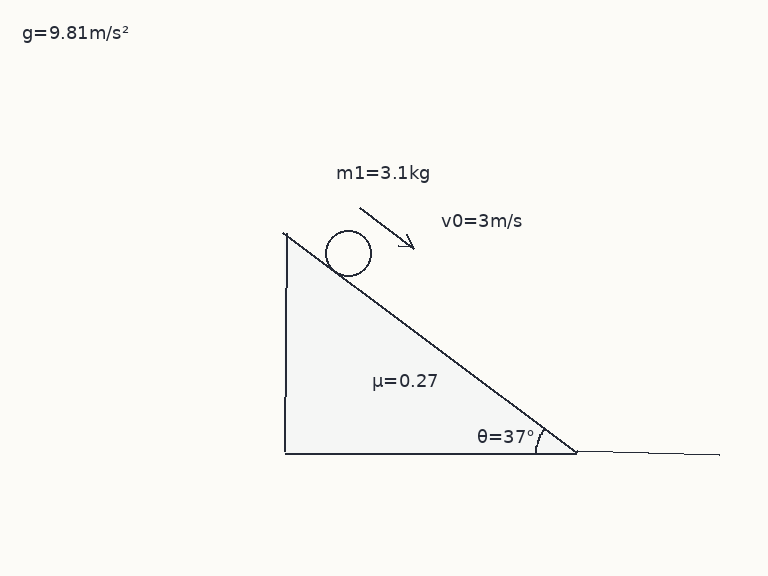ball: (323, 228, 373, 278)
ramp: (282, 231, 578, 455)
